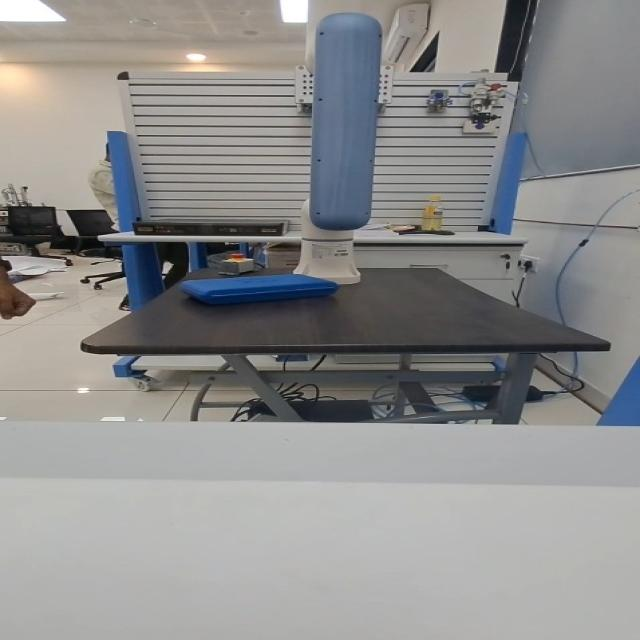top-surface: (199, 274, 308, 286)
